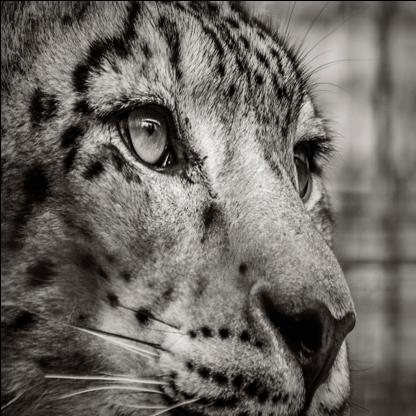leopard: (8, 4, 358, 416)
